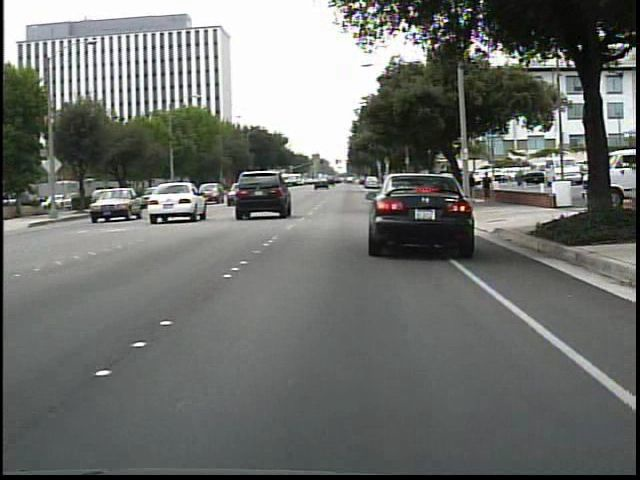person: (480, 171, 494, 205), (469, 172, 480, 202)
